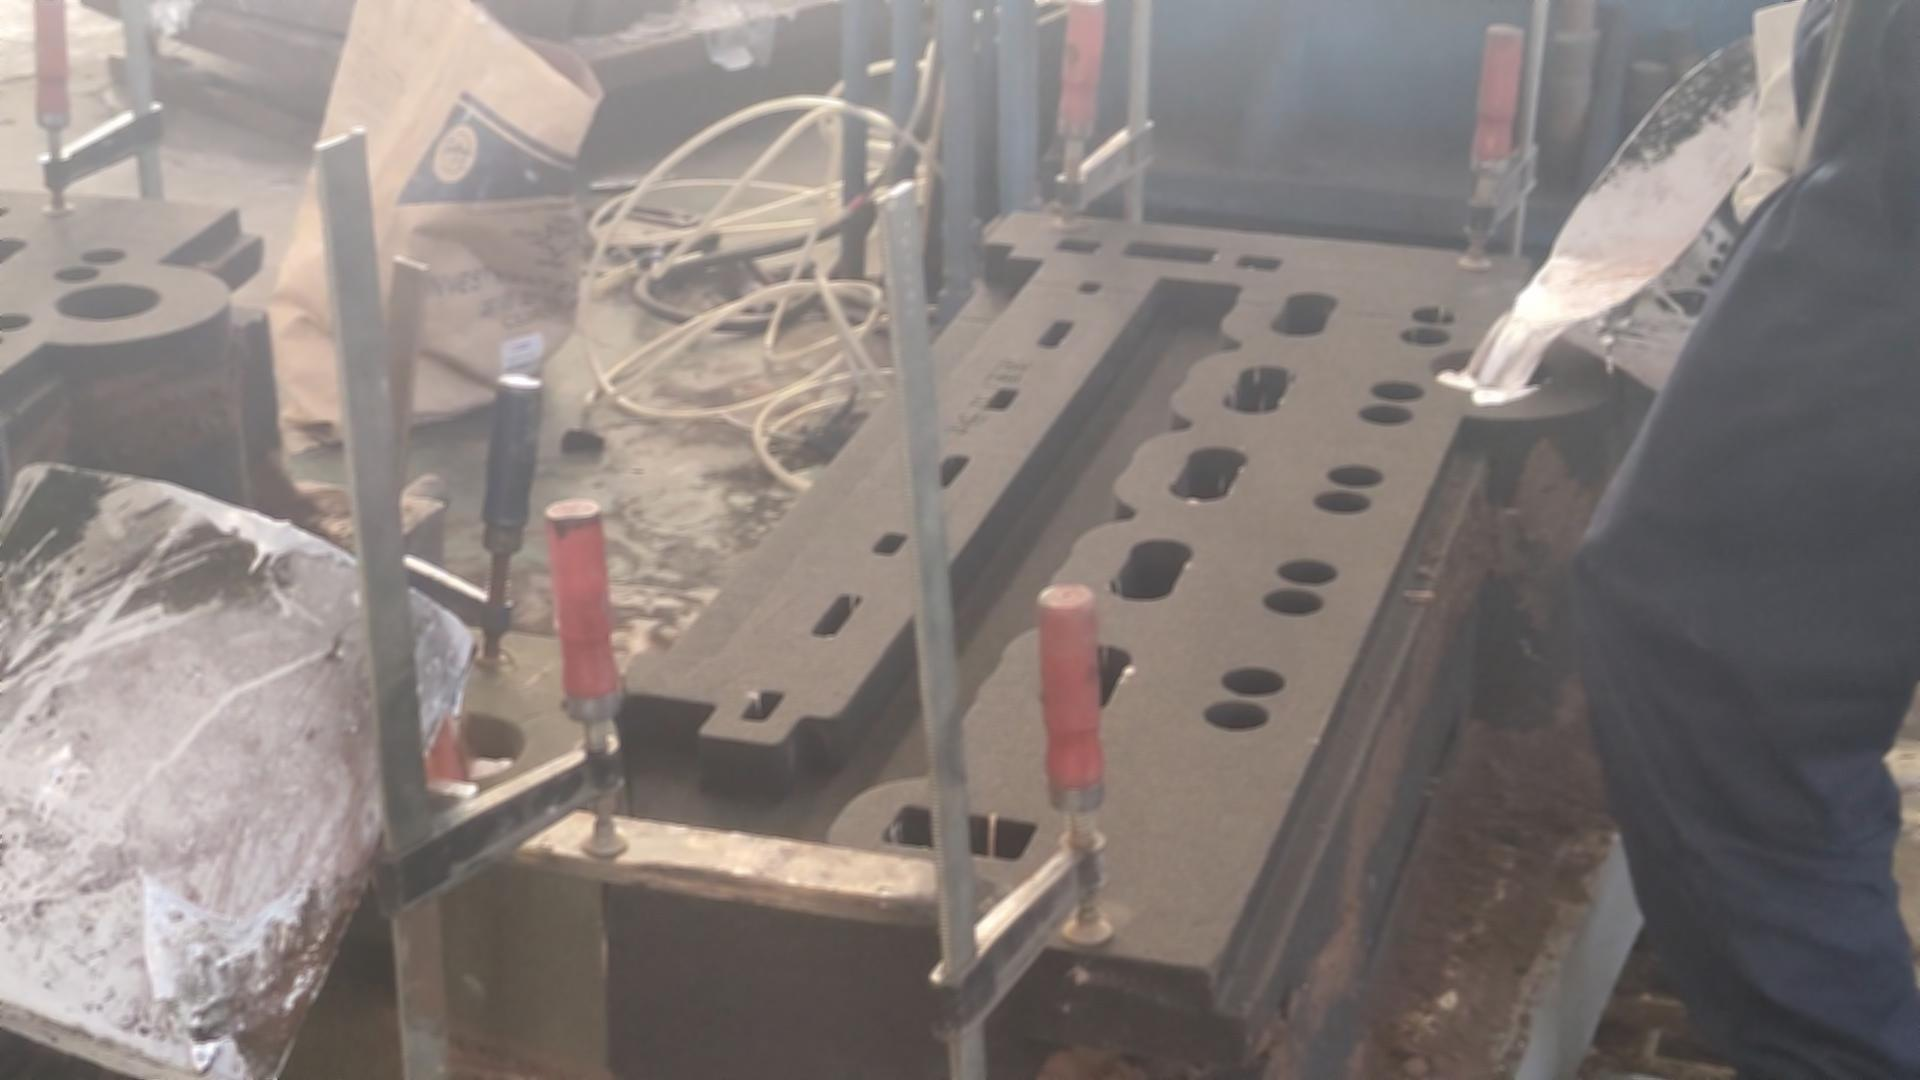pouring hole: (386, 707, 524, 786), (1425, 345, 1553, 397), (51, 281, 161, 320)
